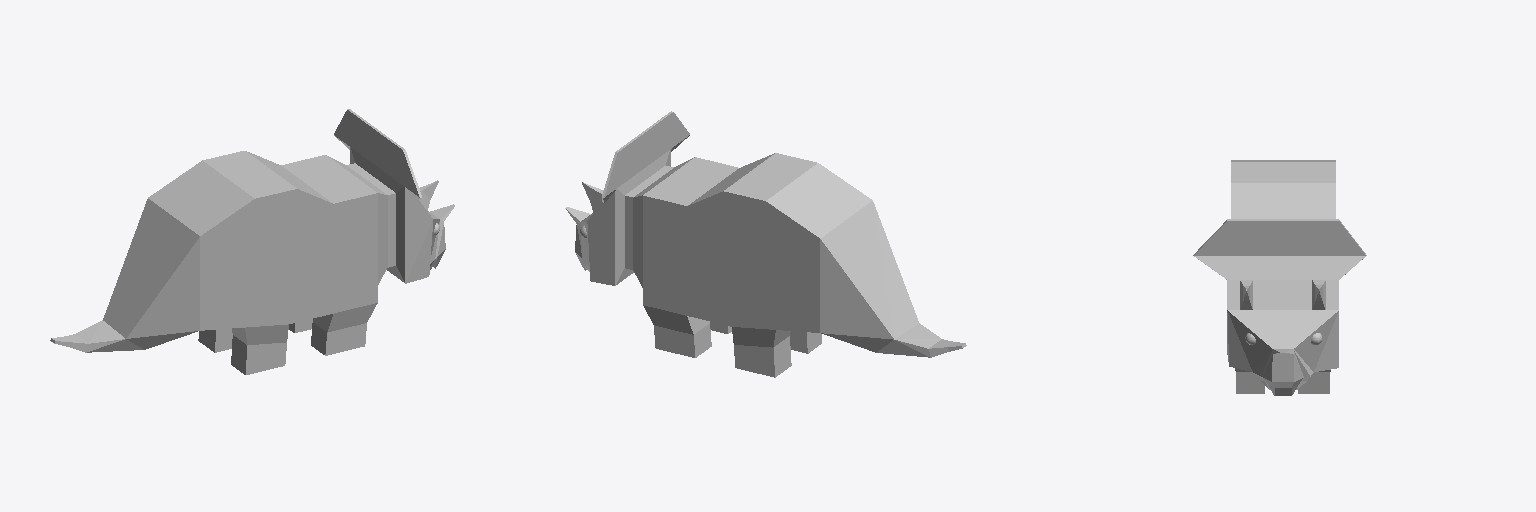
File: TRIKE.obj
3 renders of one model, left to right at view 1: azimuth 30°, elevation 25°; view 2: azimuth 150°, elevation 25°; view 3: azimuth 270°, elevation 25°, orthographic.
Parts seen in each view (by area): view 1: Plane; view 2: Plane; view 3: Plane.
Boxes of the visible parts, x1,y1,x2,y2 form: Plane: [50, 109, 454, 374]; Plane: [565, 111, 966, 377]; Plane: [1193, 160, 1366, 395].
Bounding box in the file's own units: 3.23 × 1.47 × 1.21.